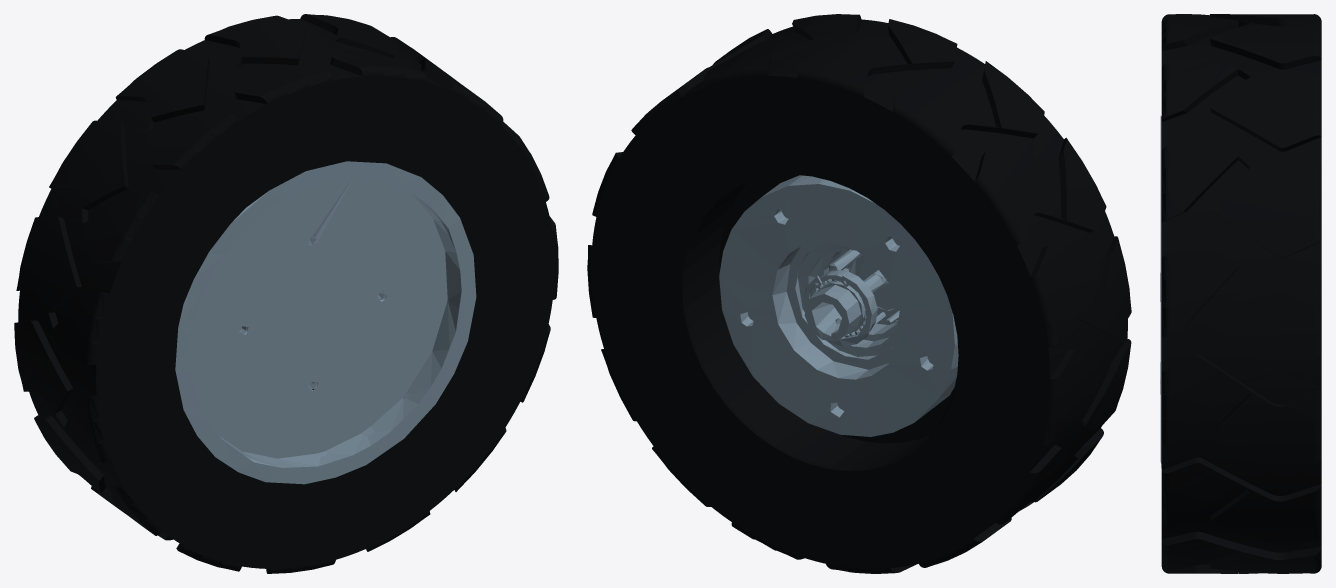
The model's file is wheel_RR.dae.
3 renders of one model, left to right at view 1: azimuth 30°, elevation 25°; view 2: azimuth 150°, elevation 25°; view 3: azimuth 270°, elevation 25°, orthographic. The views are drawn at different scales.
Visible parts, largest first — view 1: node; view 2: node; view 3: node.
Boxes of the visible parts, x1=… form: node: x1=14, y1=14, x2=558, y2=573; node: x1=587, y1=14, x2=1131, y2=573; node: x1=1160, y1=14, x2=1321, y2=573.
Bounding box in the file's own units: 0.35 × 0.1009 × 0.35.
